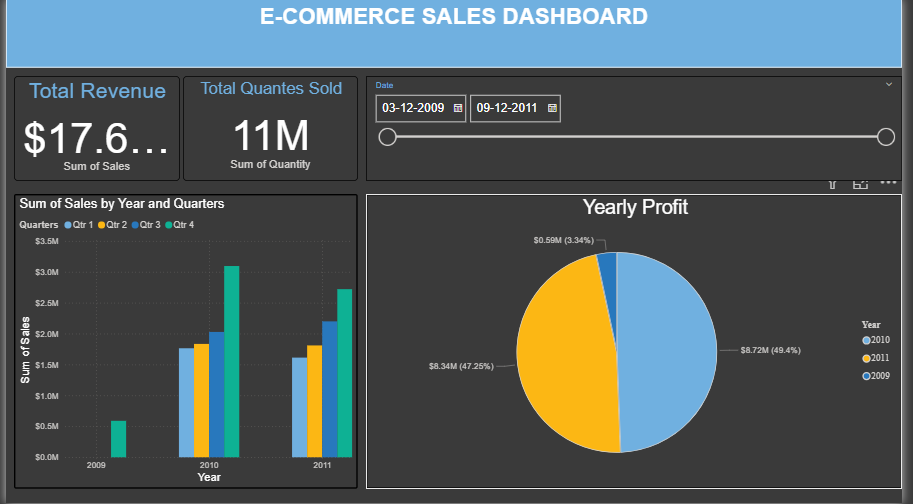

This screenshot's page, from the dashboard's own definition file:
{"tool":"powerbi","page":{"name":"Page 1","canvas":[1280,720],"ordinal":0},"visuals":[{"type":"textbox","box":[0,0,1280,98.3],"z":0},{"type":"card","title":"Total Revenue","fields":{"Values":["Sum(Append1.Sales)"]},"box":[11.7,110,236.7,150],"z":1},{"type":"card","title":"Total Quantes Sold","fields":{"Values":["Sum(Append1.Quantity)"]},"box":[252.9,110,250,150],"z":2},{"type":"clusteredColumnChart","fields":{"Category":["Append1.Year"],"Series":["Append1.Quarters"],"Y":["Sum(Append1.Sales)"]},"box":[11.4,278.6,491.4,421.4],"z":4},{"type":"pieChart","title":"Yearly Profit","fields":{"Category":["Append1.Year"],"Y":["Sum(Append1.Sales)"]},"box":[514.3,278.6,765.7,421.4],"z":5},{"type":"slicer","fields":{"Values":["Append1.Date"]},"box":[514.3,110,765.7,150],"z":6}]}

Visuals, with their boxes in screenshot pixels (x1, y1, x2, y2), scaled from the page's 1280x720 canvas onto the 913x504 screenshot:
textbox: bbox=[0, 0, 912, 69]
"Total Revenue" card: bbox=[8, 77, 177, 182]
"Total Quantes Sold" card: bbox=[180, 77, 359, 182]
clusteredColumnChart - Append1.Year x Append1.Quarters: bbox=[8, 195, 359, 490]
"Yearly Profit" pieChart: bbox=[367, 195, 912, 490]
slicer - Append1.Date: bbox=[367, 77, 912, 182]
